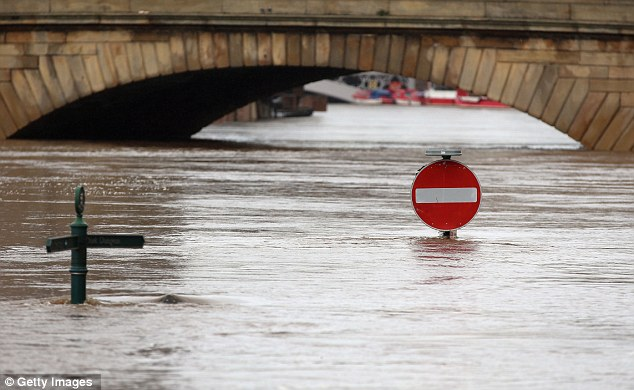No_entry: (410, 159, 482, 231)
